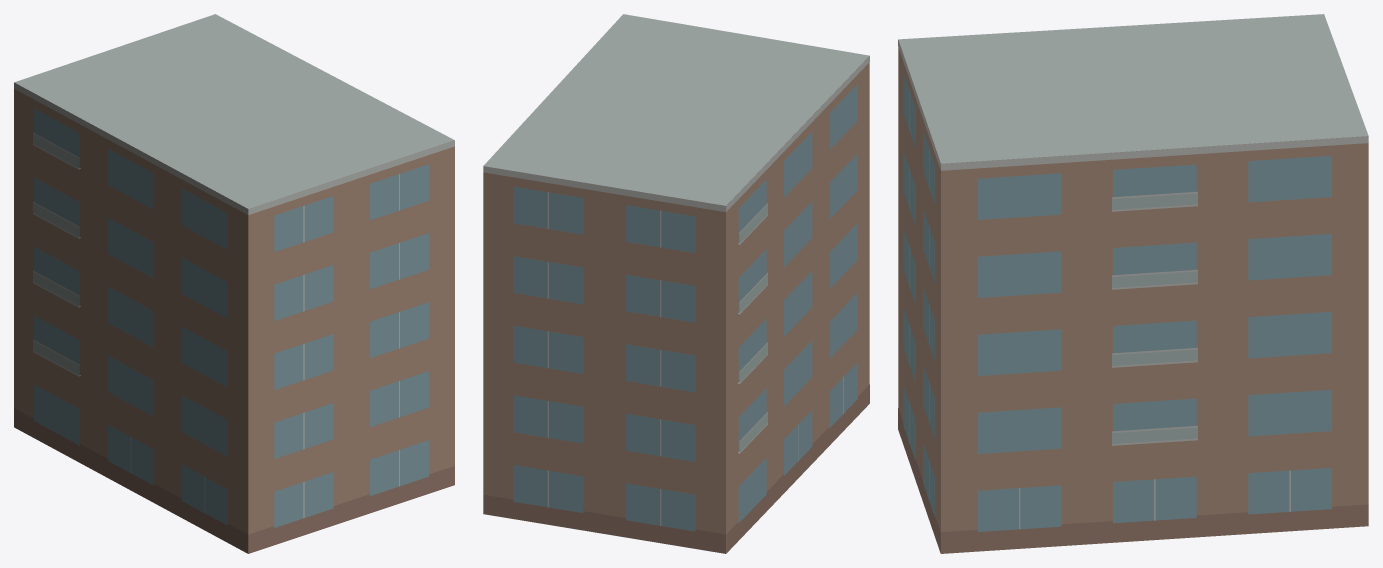
Rendered from survey-upis-32708625.glb.
3 views of the same model, side by side, from view 1: azimuth 30°, elevation 25°; view 2: azimuth 150°, elevation 25°; view 3: azimuth 270°, elevation 25° (orthographic). The views are drawn at different scales.
Visible parts, largest first — view 1: survey-upis-32708625.tmp; view 2: survey-upis-32708625.tmp; view 3: survey-upis-32708625.tmp.
Boxes of the visible parts, bbox=[...] form: survey-upis-32708625.tmp: bbox=[14, 14, 454, 553]; survey-upis-32708625.tmp: bbox=[483, 14, 869, 553]; survey-upis-32708625.tmp: bbox=[898, 14, 1368, 553].
Size of the model in its own units: 11.12 by 13.5 by 14.77.
